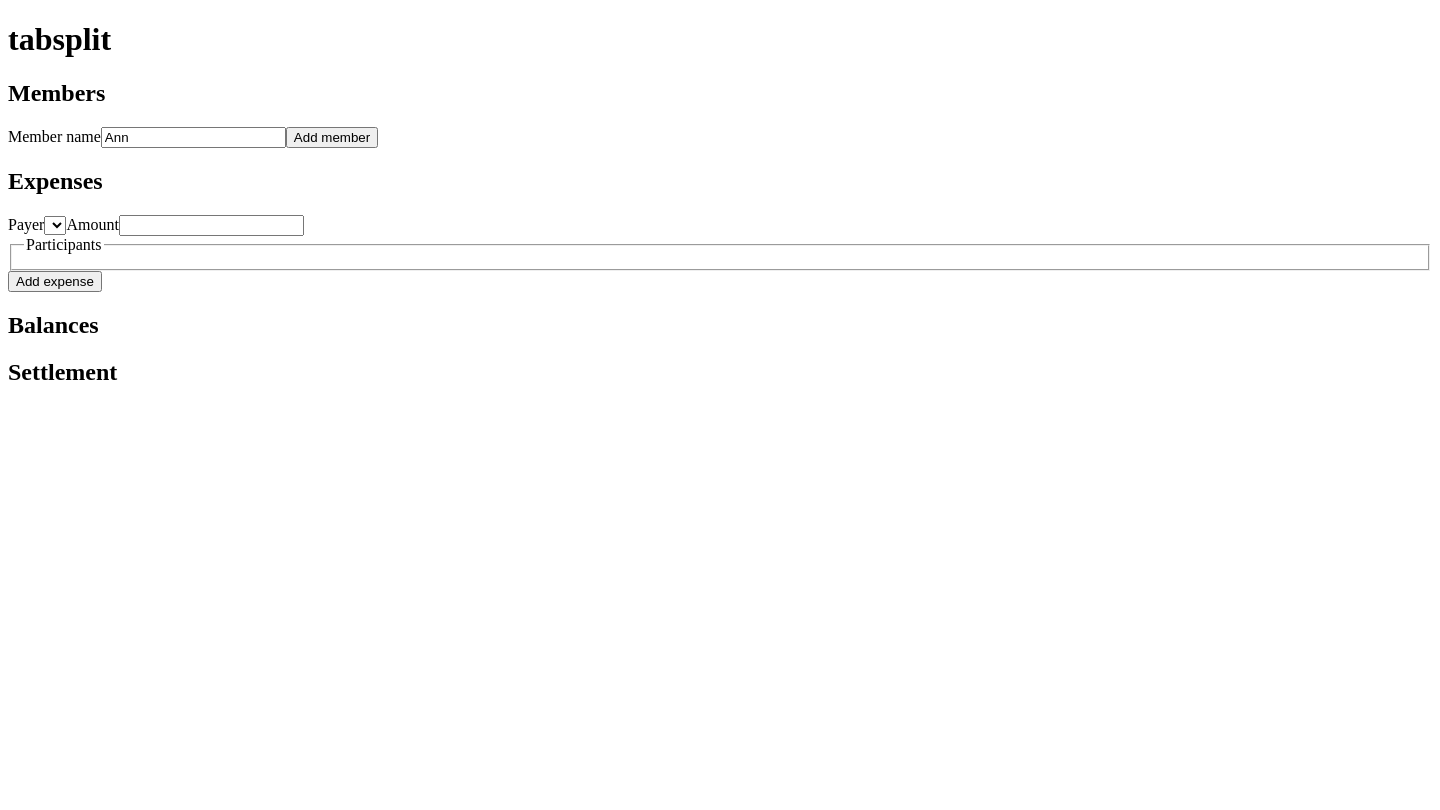
App › adds an expense and shows balances and transfers
Earlier steps of the test are not shown.
Click the button "Add member". click: (332, 137)
box: left=286, top=127, right=378, bottom=148
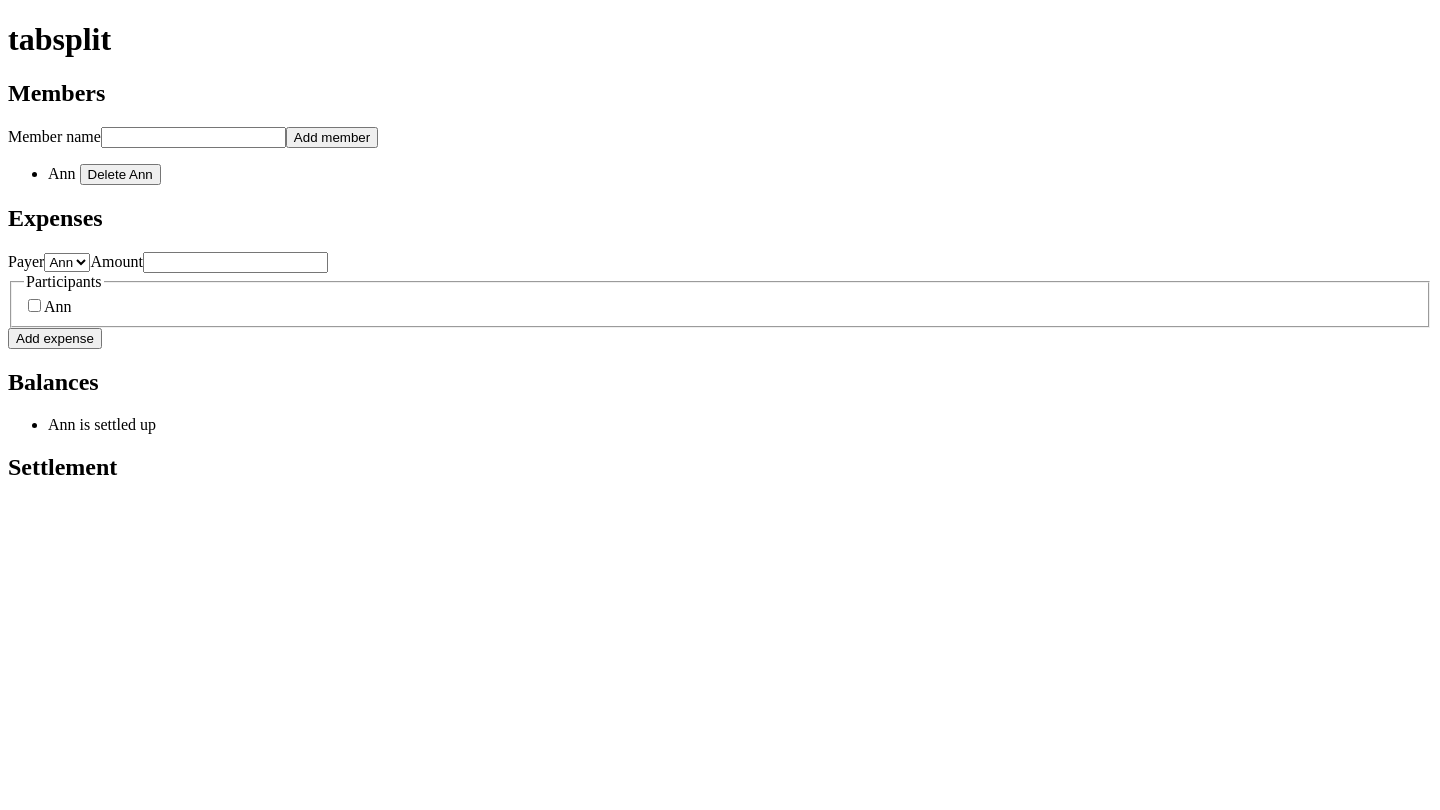
Type "Bob" into the field labelled "Member name". click: (193, 137)
box: left=101, top=127, right=286, bottom=148
Click the button "Add member". click: (332, 137)
box: left=286, top=127, right=378, bottom=148
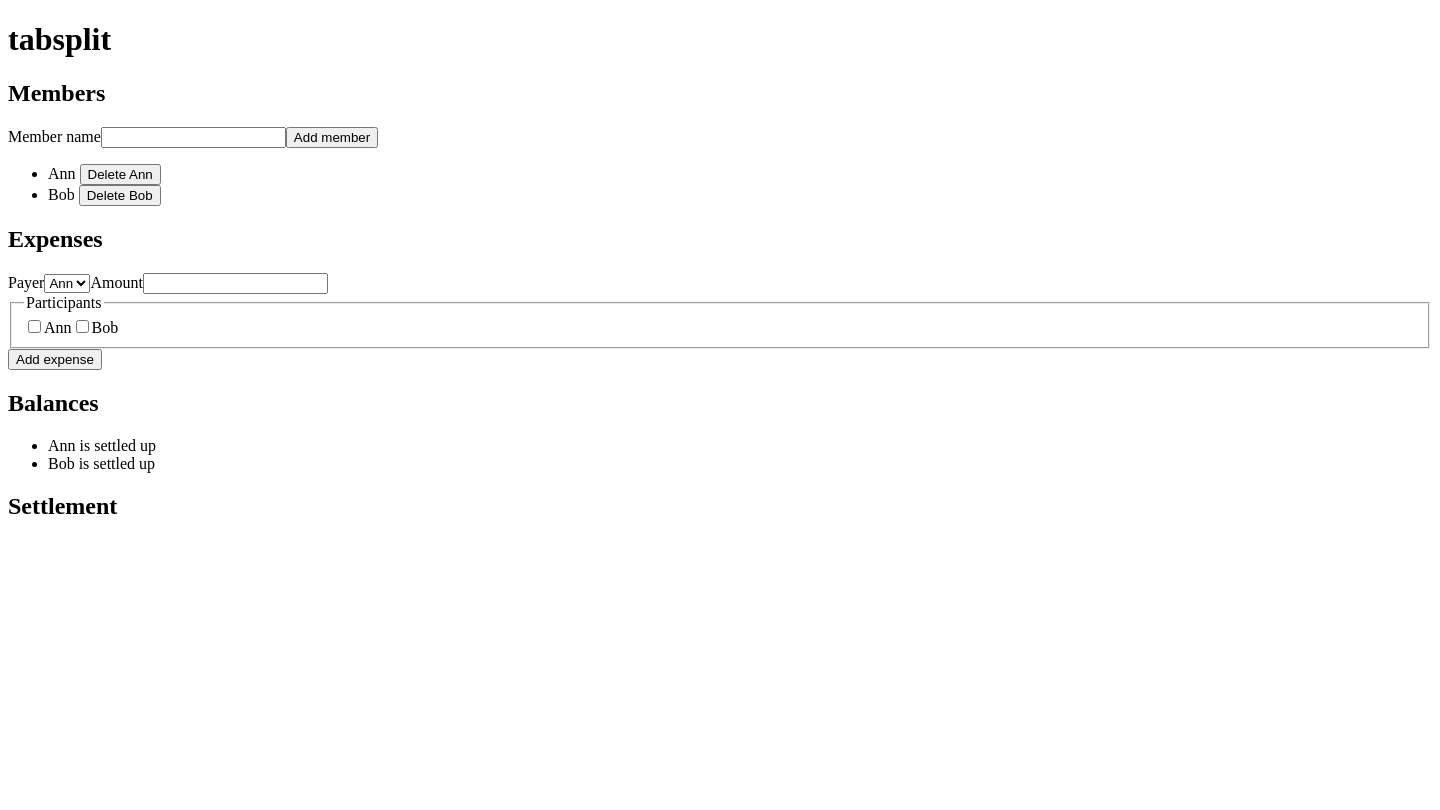
Select "Ann" in the dropdown labelled "Payer". click: (67, 283)
box: left=44, top=274, right=90, bottom=293
Type "10.01" into the field labelled "Amount". click: (235, 283)
box: left=143, top=273, right=328, bottom=294
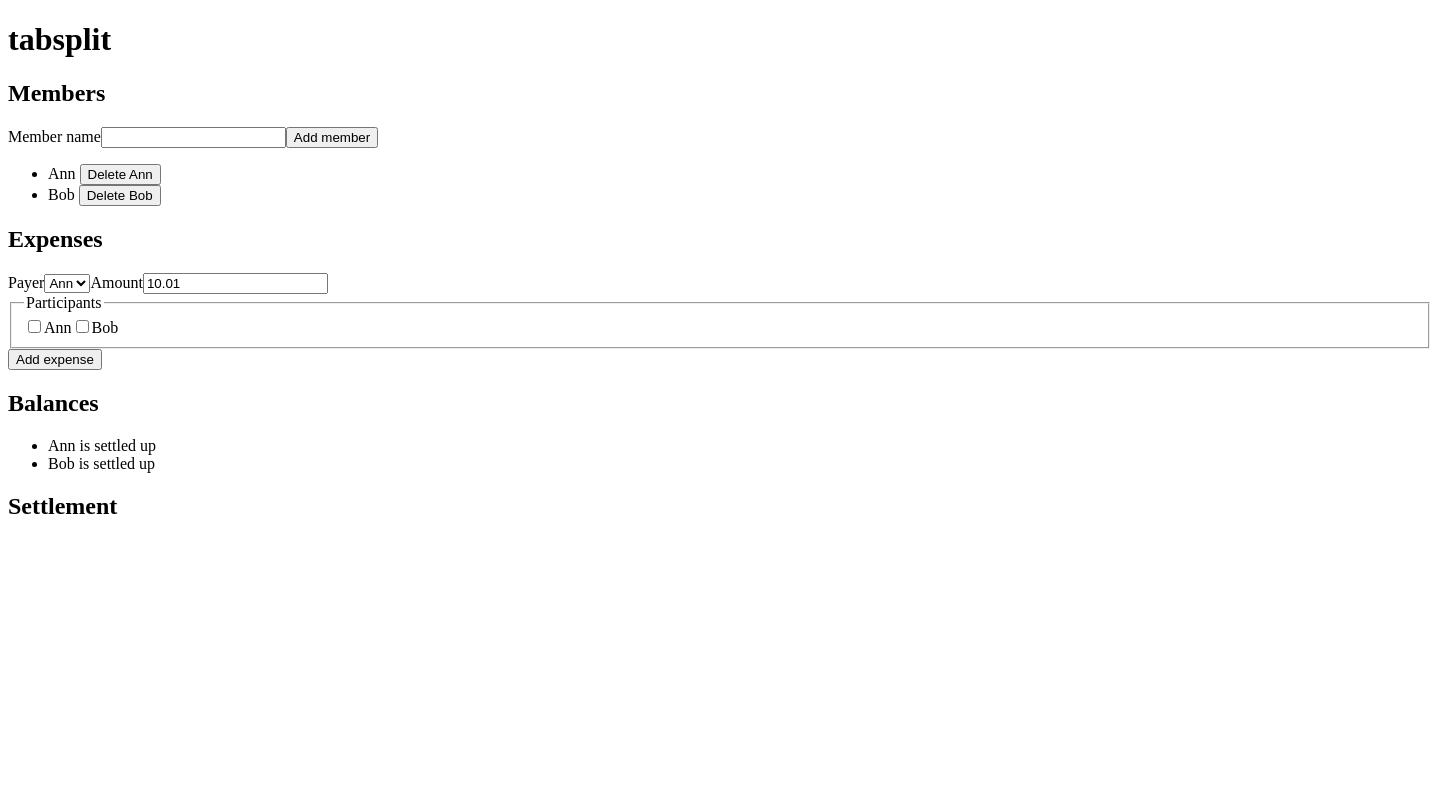
Click the checkbox labelled "Ann". click: (34, 327)
box: left=28, top=320, right=41, bottom=333
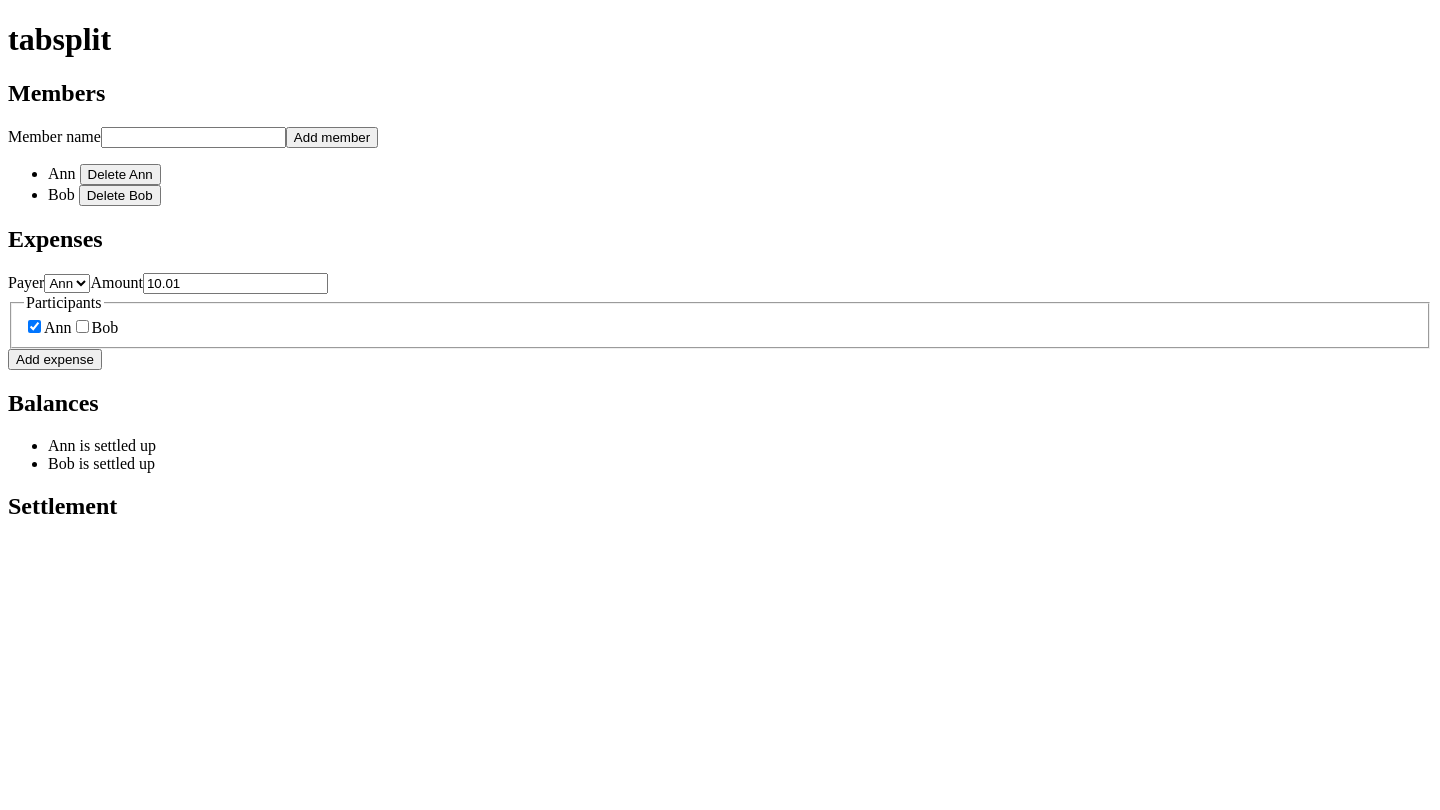
Click the checkbox labelled "Bob". click: (82, 327)
box: left=76, top=320, right=89, bottom=333
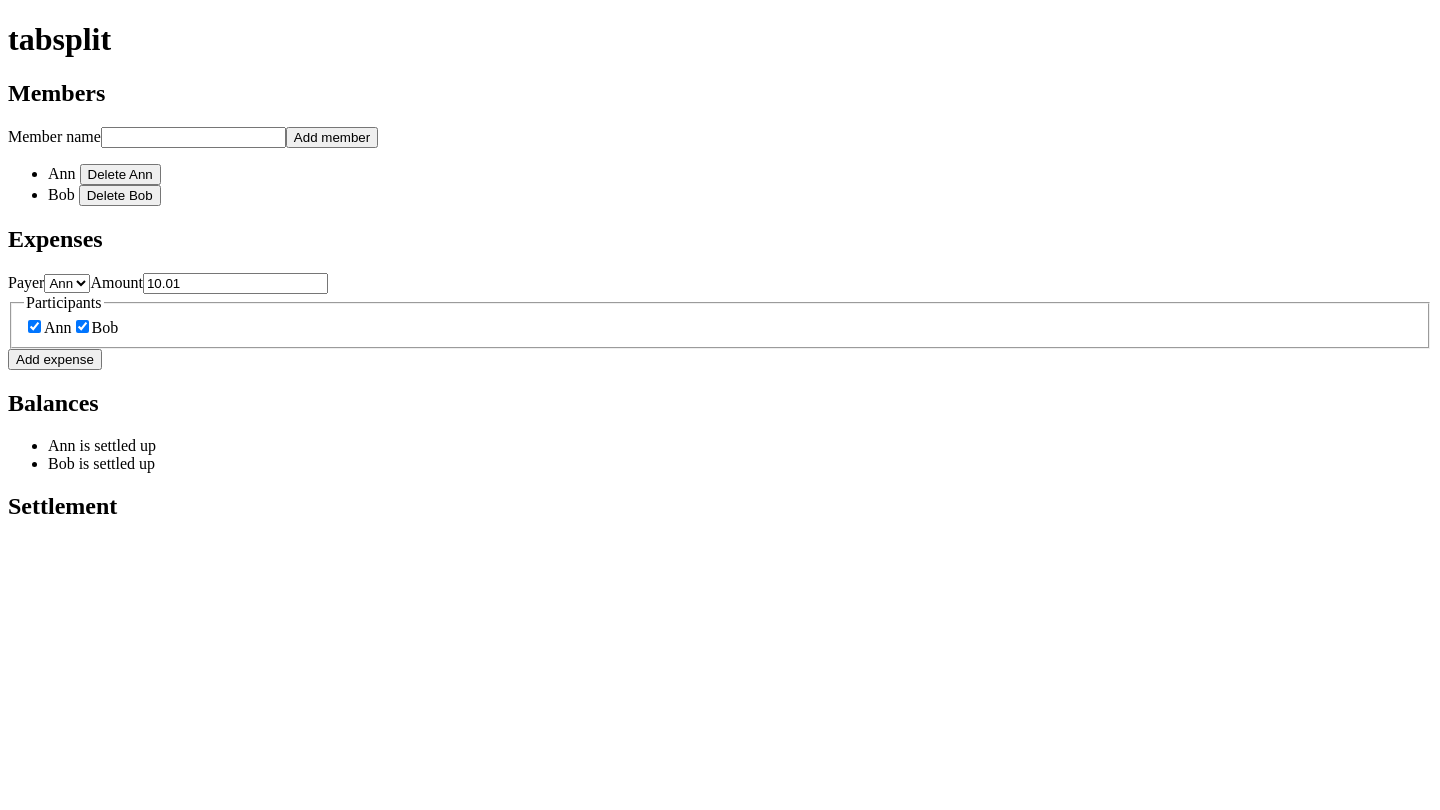
Click the button "Add expense". click: (55, 360)
box: left=8, top=349, right=102, bottom=370
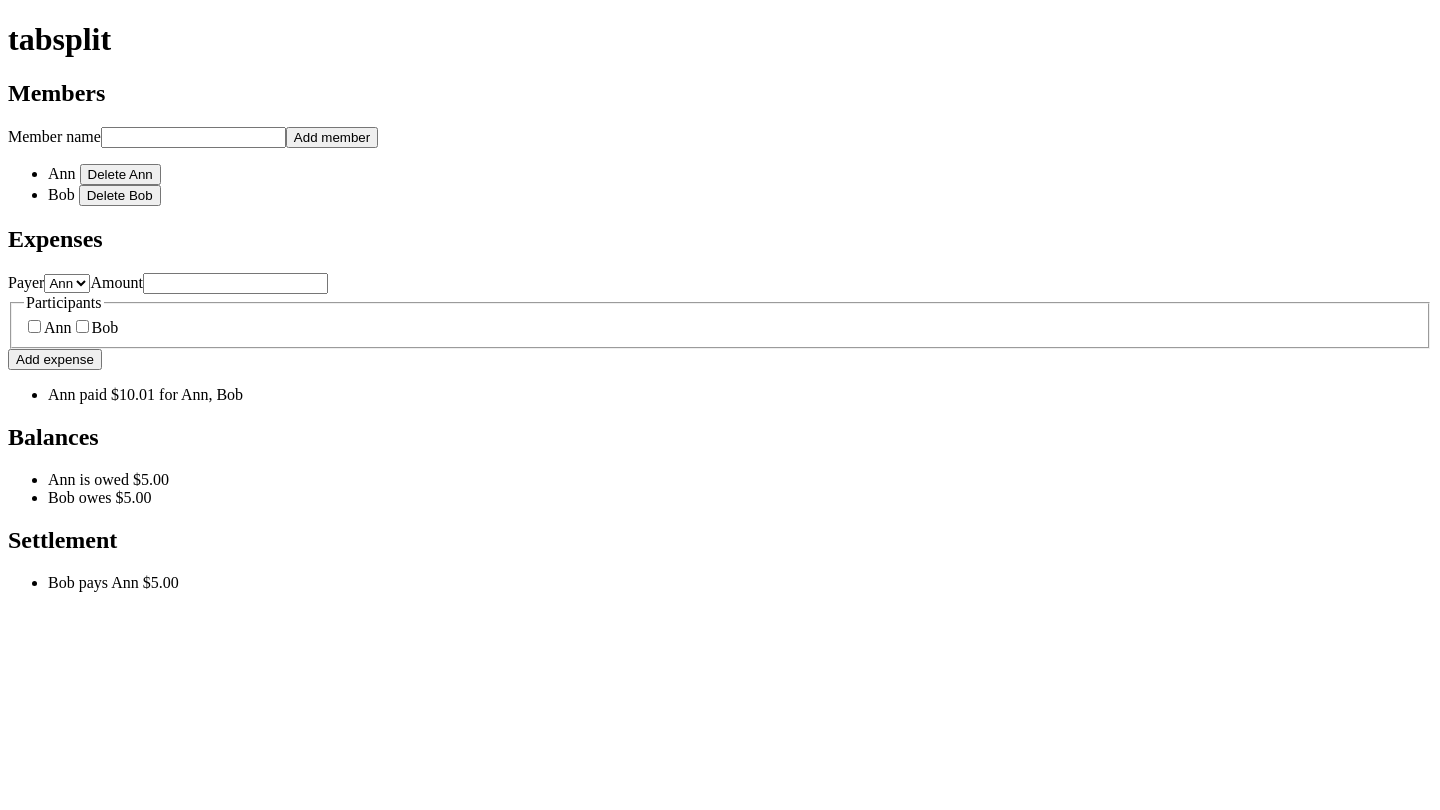
expect the list items read "Ann is owed $5.00", "Bob owes $5.00", in this order: met, box left=48, top=471, right=169, bottom=488; left=48, top=489, right=152, bottom=506
expect the list items read "Bob pays Ann $5.00", in this order: met, box left=48, top=574, right=179, bottom=591
